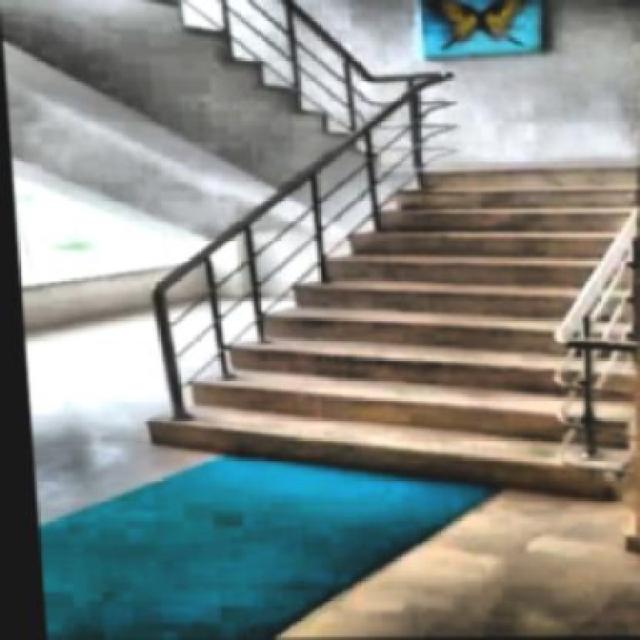stair: (112, 155, 638, 488)
